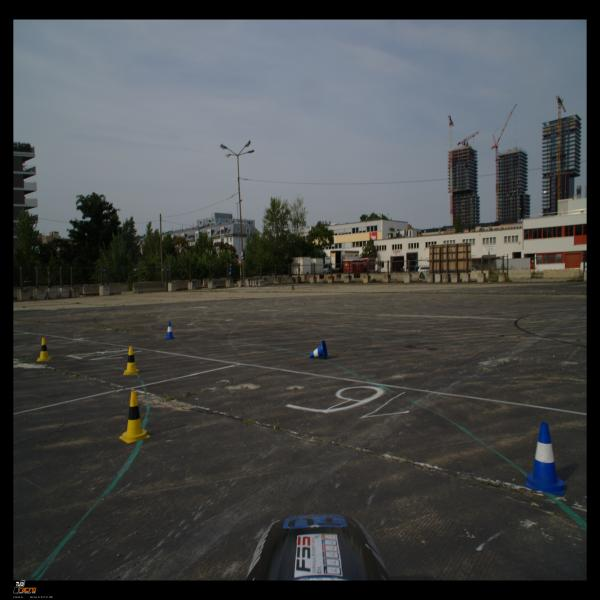blue_cone: (526, 422, 566, 496), (309, 340, 328, 359), (165, 321, 175, 340)
yellow_cone: (119, 391, 150, 443), (123, 346, 139, 375), (36, 338, 52, 362)
